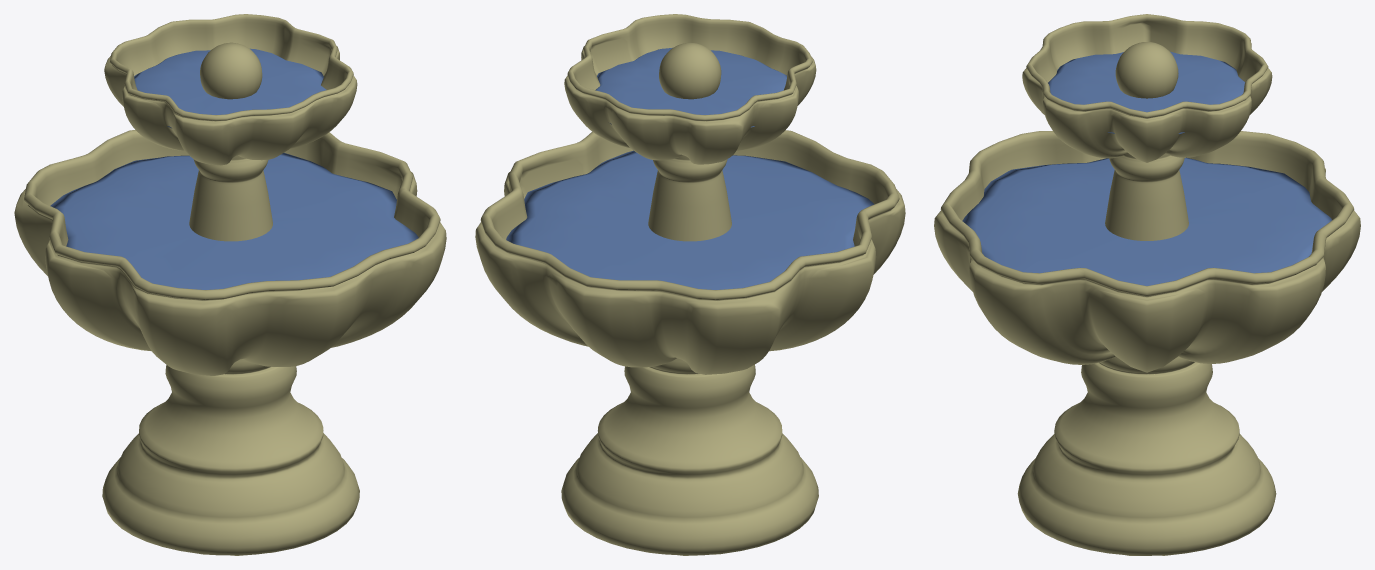
The model's file is water foutain 2.fbx.
The picture shows the model from 3 angles, left to right: view 1: azimuth 30°, elevation 25°; view 2: azimuth 150°, elevation 25°; view 3: azimuth 270°, elevation 25°; orthographic projection.
Visible parts, largest first — view 1: pCylinder171; view 2: pCylinder171; view 3: pCylinder171.
Part boxes in pixels (bbox=[...]): pCylinder171: bbox=[14, 14, 446, 555]; pCylinder171: bbox=[475, 14, 905, 555]; pCylinder171: bbox=[934, 14, 1360, 555].
Size of the model in its own units: 186 by 225 by 187.
